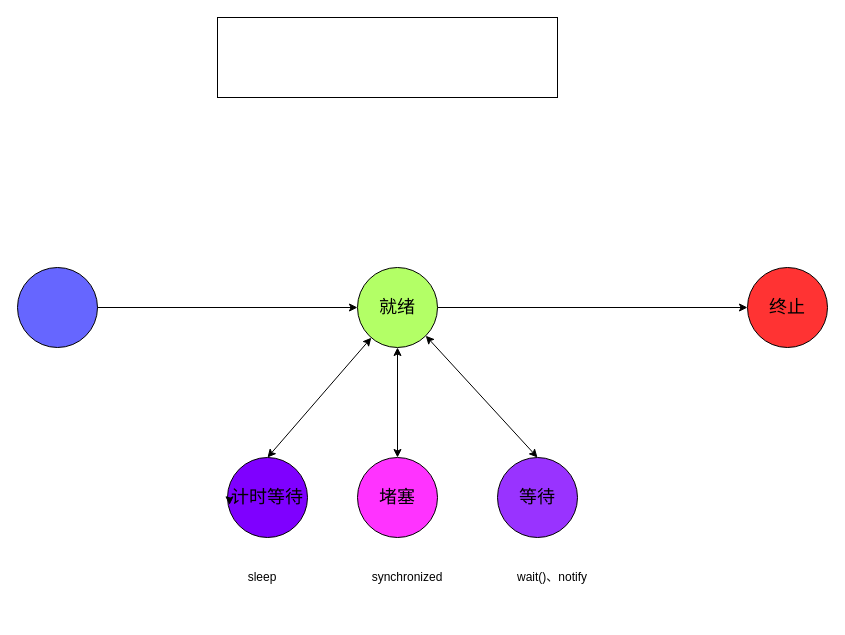
This 845x635 diagram has some shape labels left out. Here are the shapes that lost their labels. From the top down, the box of each, then its label:
(216, 16, 558, 98): 线程的状态
(16, 266, 98, 348): 新建
